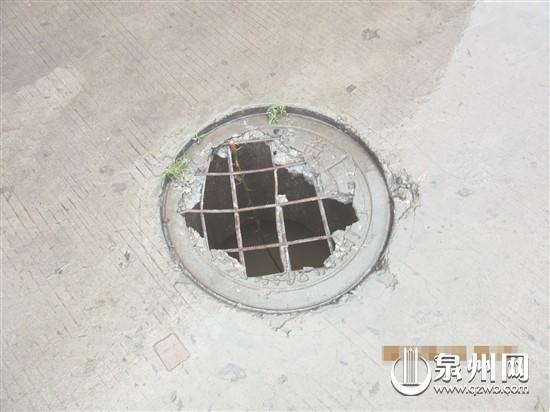wellcover: (148, 90, 399, 316)
